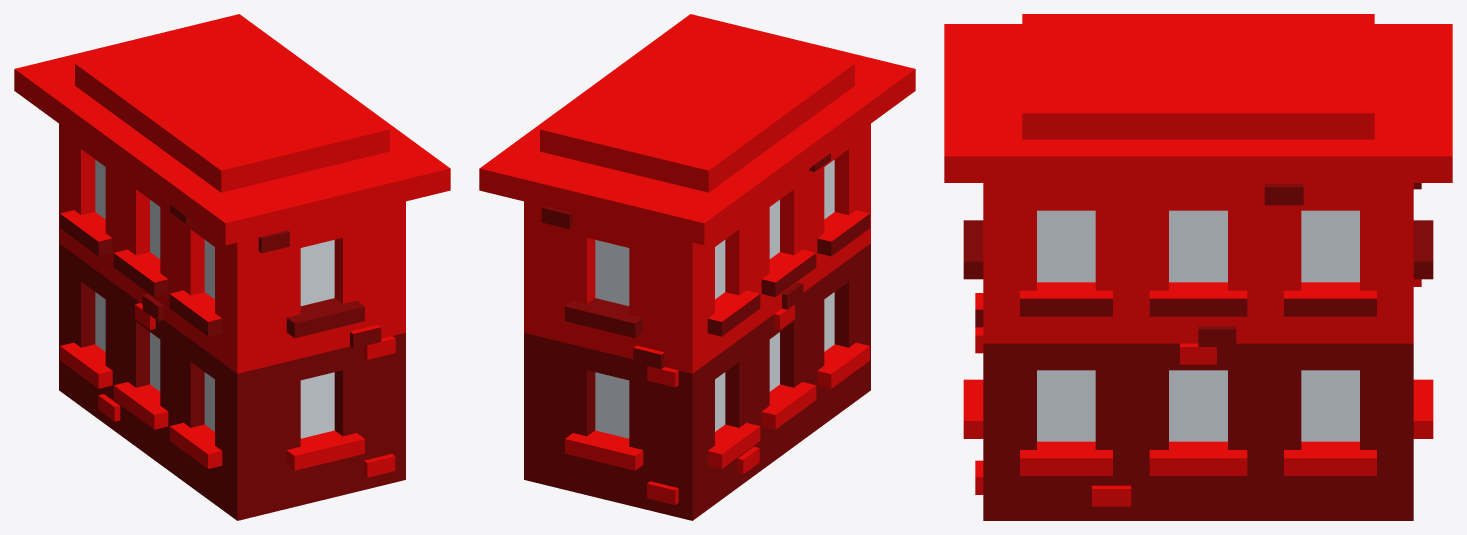
The model's file is Edificio 1.fbx.
3 views of the same model, side by side, from view 1: azimuth 30°, elevation 25°; view 2: azimuth 150°, elevation 25°; view 3: azimuth 270°, elevation 25° (orthographic). The views are drawn at different scales.
Visible parts, largest first — view 1: [4153], Pared 2 [4327], Pared 1 [4324]; view 2: [4153], Pared 2 [4327], Pared 1 [4321]; view 3: Pared 2 [4330], [4153], Pared 1 [4324], Pared 1 [4321].
Boxes of the visible parts, x1,y1,x2,y2 form: [4153]: (14, 14, 450, 245); Pared 2 [4327]: (59, 124, 237, 520); Pared 1 [4324]: (237, 201, 405, 520); [4153]: (479, 14, 915, 245); Pared 2 [4327]: (692, 124, 870, 520); Pared 1 [4321]: (524, 201, 692, 520); Pared 2 [4330]: (983, 183, 1413, 520); [4153]: (944, 14, 1452, 182); Pared 1 [4324]: (963, 220, 983, 494); Pared 1 [4321]: (1413, 183, 1433, 438).
Size of the model in its own units: 315 by 512 by 453.
